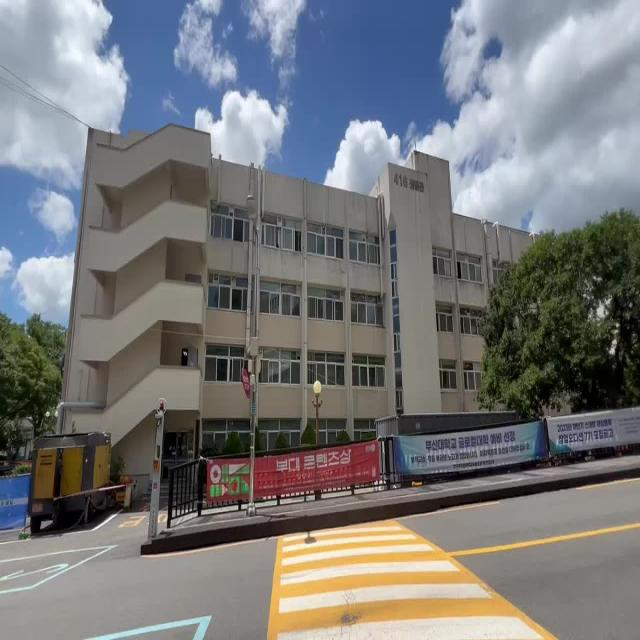building: (88, 118, 484, 426)
